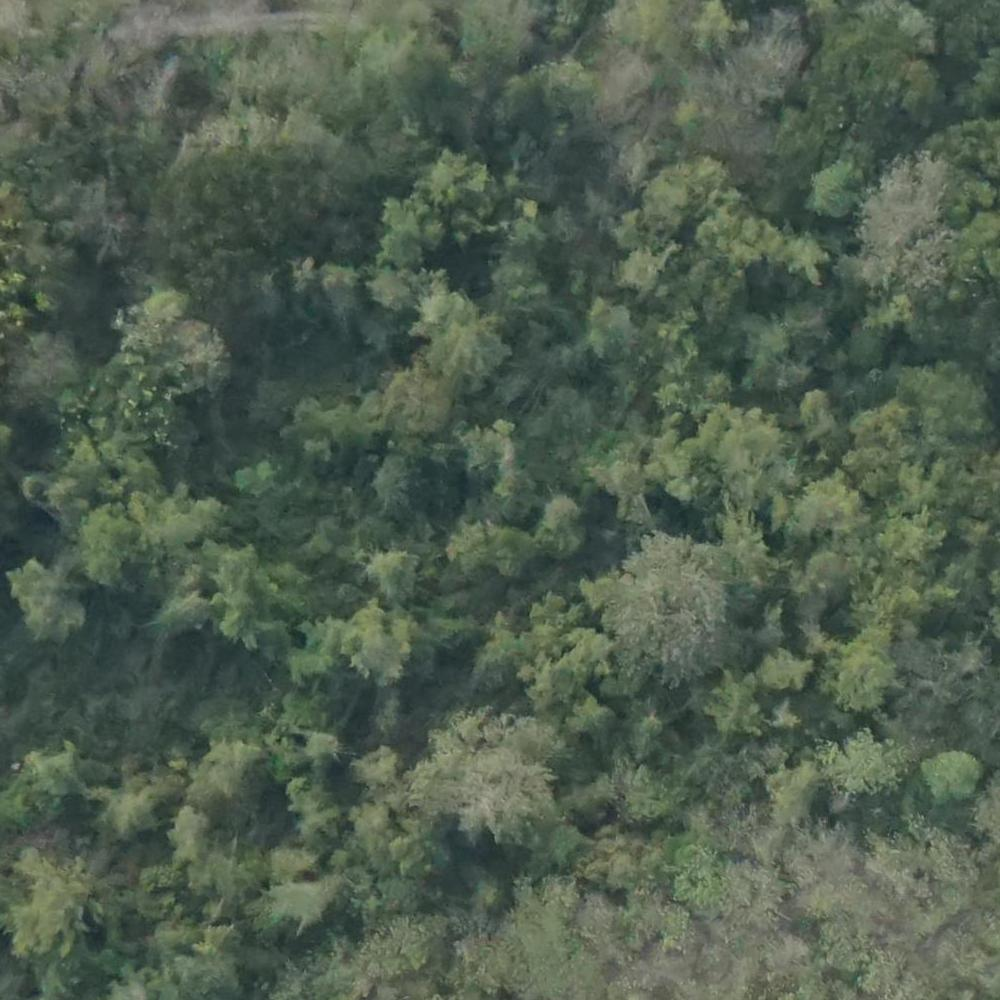tree: (403, 706, 559, 844), (590, 533, 736, 679), (826, 627, 901, 723), (338, 601, 420, 678), (8, 563, 83, 646), (448, 511, 533, 583), (191, 733, 268, 811), (148, 321, 225, 396), (3, 876, 87, 944), (379, 362, 457, 435), (74, 504, 143, 586), (374, 189, 445, 267), (801, 159, 874, 231), (820, 733, 895, 801), (533, 486, 600, 554), (670, 839, 729, 915), (579, 293, 639, 360), (100, 772, 159, 838), (921, 744, 979, 807), (364, 455, 427, 513), (738, 323, 794, 388), (363, 544, 427, 599), (797, 465, 848, 531), (434, 321, 493, 376), (459, 422, 518, 474), (424, 149, 479, 196), (713, 685, 760, 739), (787, 235, 836, 284), (758, 648, 806, 692), (618, 249, 662, 293), (234, 459, 272, 496)
